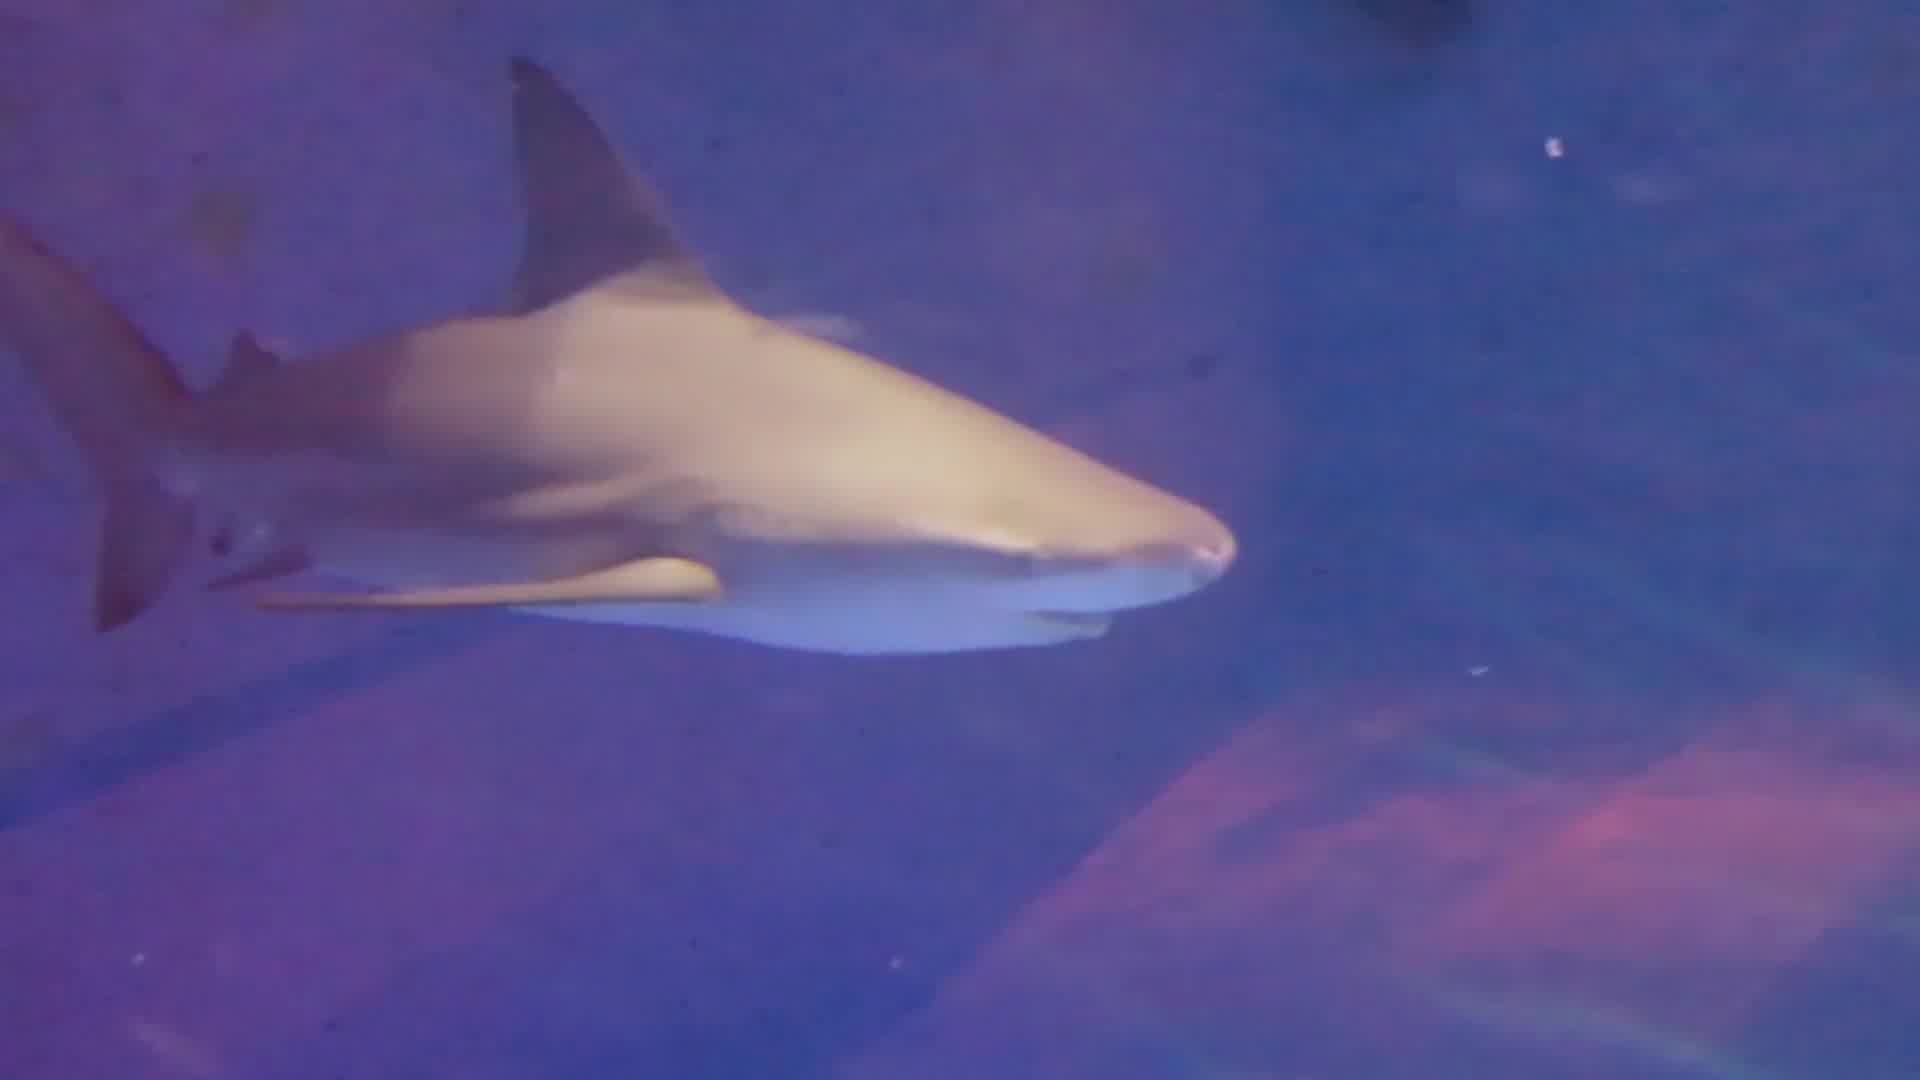Carcharhinus leucas: (1, 62, 1265, 691)
